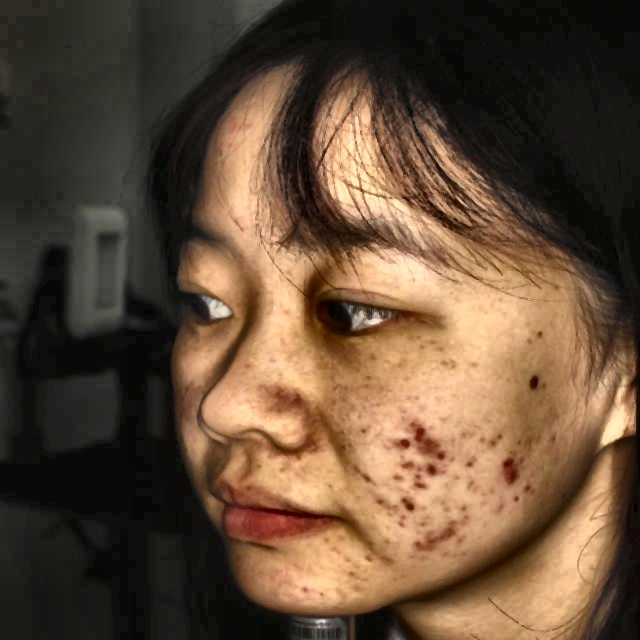pustule: (412, 421, 454, 465), (494, 451, 528, 482), (400, 527, 436, 556), (390, 492, 424, 522), (440, 515, 467, 543), (388, 424, 413, 454), (401, 460, 424, 480)
